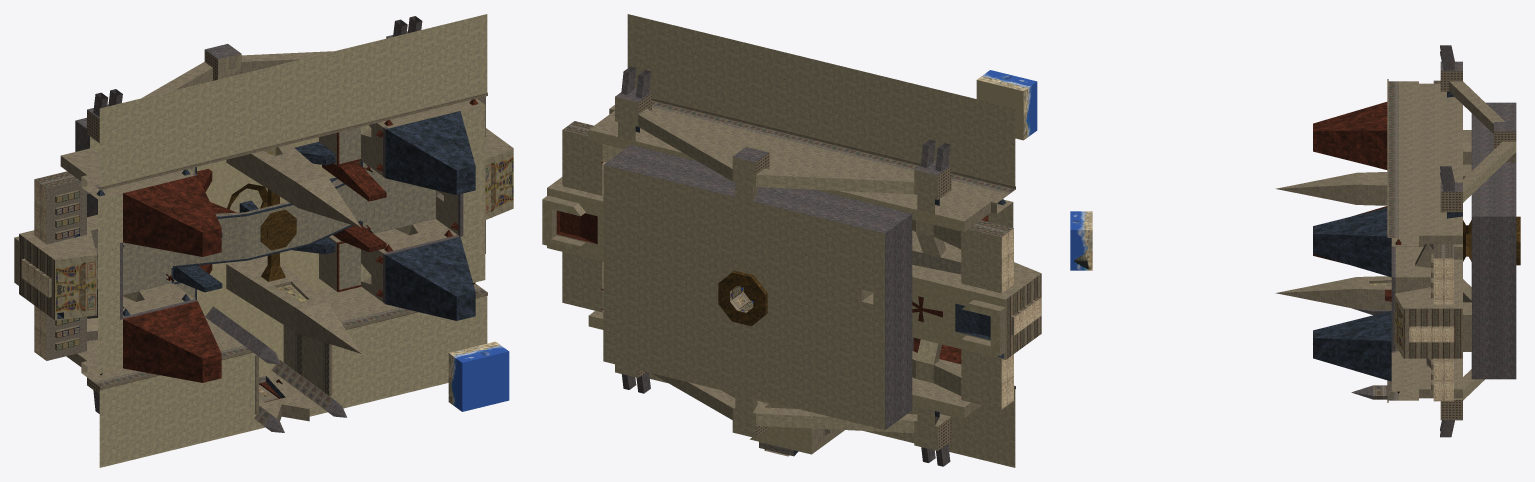
The model's file is DOM-Ramses.obj.
The picture shows the model from 3 angles, left to right: view 1: azimuth 30°, elevation 25°; view 2: azimuth 150°, elevation 25°; view 3: azimuth 270°, elevation 25°; orthographic projection. The views are drawn at different scales.
Visible parts, largest first — view 1: Egypt_Paver1, Egypt_GypWal1, Ancient_Base_A_bs3, Ancient_Base_A_bs4, Egypt_Paver1a, Egypt_PaveBase, Egypt_GypMur1, Egypt_GypWal2, Ancient_Base_CRUNCHYA, Egypt_GypTrim1, Egypt_GypTrim6, EgyptPan_Skybox_SkyBPyramidTop (+7 smaller); view 2: Egypt_Paver1, Egypt_GypWal1, Egypt_GypWal2, Egypt_PaveBase, Egypt_GypTrim6, EgyptPan_Heiroglyphs1, Ancient_Base_A_bs3, Ancient_Base_A_bs1, Egypt_GHiero7, Egypt_HierEnd1, Ancient_Base_A_bs4, Egypt_GypTrim1 (+2 smaller); view 3: Egypt_GypWal1, Egypt_GypWal2, Ancient_Base_A_bs4, Ancient_Base_A_bs3, EgyptPan_Heiroglyphs1, Egypt_GHiero7, Egypt_GypTrim6, Egypt_HierEnd1, Egypt_Paver1, Egypt_GypTrim1, Ancient_Base_A_bs1, Egypt_GypMur1 (+3 smaller).
Boxes of the visible parts, x1,y1,x2,y2 form: Egypt_Paver1: (90, 14, 487, 467); Egypt_GypWal1: (14, 51, 513, 421); Ancient_Base_A_bs3: (123, 99, 477, 402); Ancient_Base_A_bs4: (57, 111, 475, 398); Egypt_Paver1a: (123, 127, 435, 298); Egypt_PaveBase: (90, 137, 335, 377); Egypt_GypMur1: (55, 148, 513, 320); Egypt_GypWal2: (75, 16, 422, 432); Ancient_Base_CRUNCHYA: (46, 96, 485, 360); Egypt_GypTrim1: (55, 92, 487, 414); Egypt_GypTrim6: (94, 184, 487, 429); EgyptPan_Skybox_SkyBPyramidTop: (462, 351, 509, 411); Egypt_Paver1: (562, 14, 1015, 467); Egypt_GypWal1: (542, 105, 1041, 453); Egypt_GypWal2: (603, 66, 950, 466); Egypt_PaveBase: (542, 80, 1023, 454); Egypt_GypTrim6: (652, 100, 1015, 456); EgyptPan_Heiroglyphs1: (602, 162, 1041, 409); Ancient_Base_A_bs3: (556, 162, 988, 450); Ancient_Base_A_bs1: (718, 270, 767, 326); Egypt_GHiero7: (1005, 274, 1041, 359); Egypt_HierEnd1: (638, 93, 951, 450); Ancient_Base_A_bs4: (635, 126, 1006, 455); Egypt_GypTrim1: (652, 98, 1015, 388); Egypt_GypWal1: (1275, 81, 1516, 400); Egypt_GypWal2: (1351, 45, 1516, 437); Ancient_Base_A_bs4: (1313, 91, 1462, 381); Ancient_Base_A_bs3: (1313, 102, 1401, 393); EgyptPan_Heiroglyphs1: (1409, 258, 1454, 401); Egypt_GHiero7: (1403, 308, 1462, 358); Egypt_GypTrim6: (1373, 81, 1398, 402); Egypt_HierEnd1: (1440, 71, 1516, 420); Egypt_Paver1: (1463, 142, 1516, 400); Egypt_GypTrim1: (1369, 79, 1433, 389); Ancient_Base_A_bs1: (1463, 216, 1520, 265); Egypt_GypMur1: (1394, 294, 1403, 358).
Bounding box in the file's own units: 96.47 × 72.24 × 97.84.
